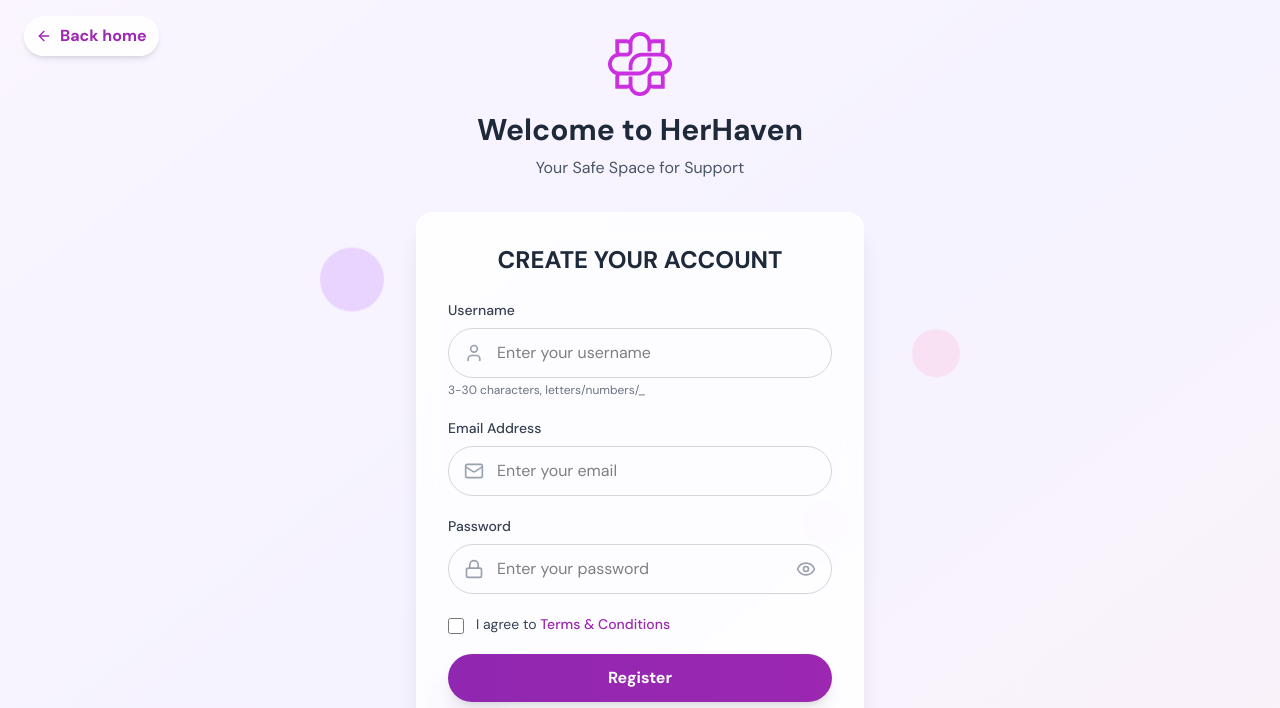
Test: Signup Page › should validate password strength
This screenshot has width=1280, height=708.
Step 1. Type "weak" into the password field named "password" → (640, 569), box [448,544,832,594]
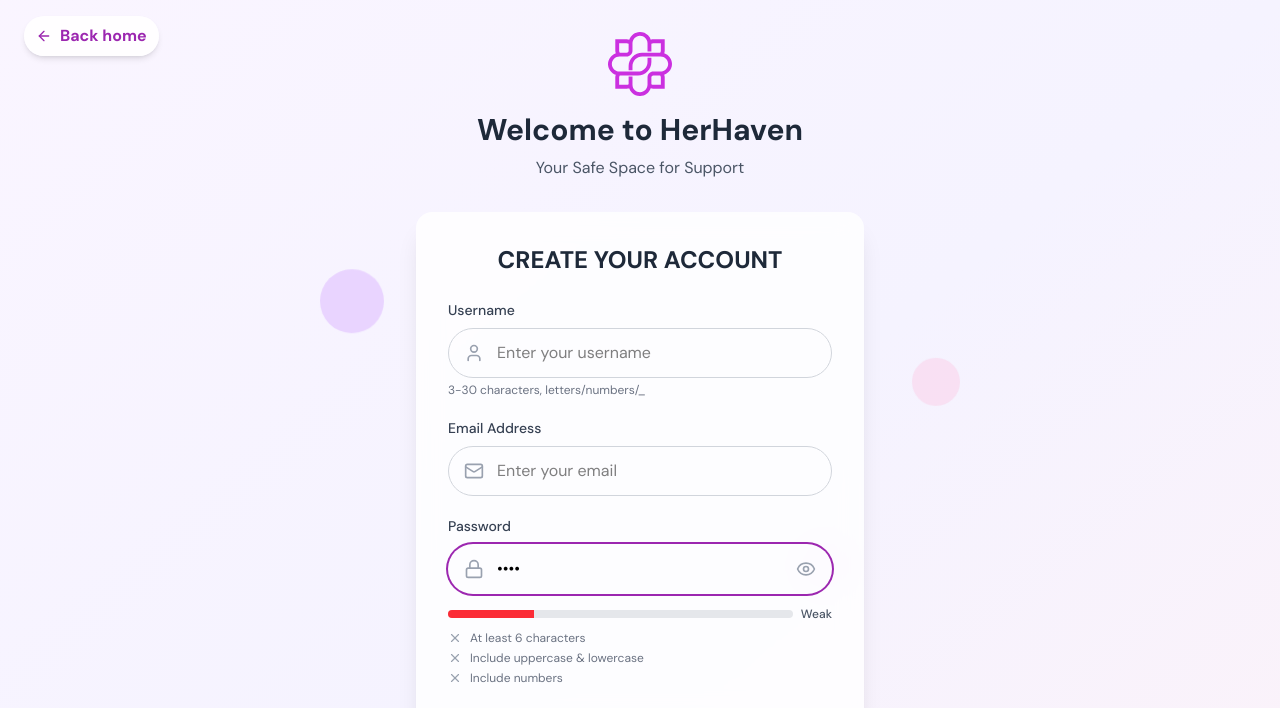
Now the text "Weak" is shown, box [801,606,832,622]
